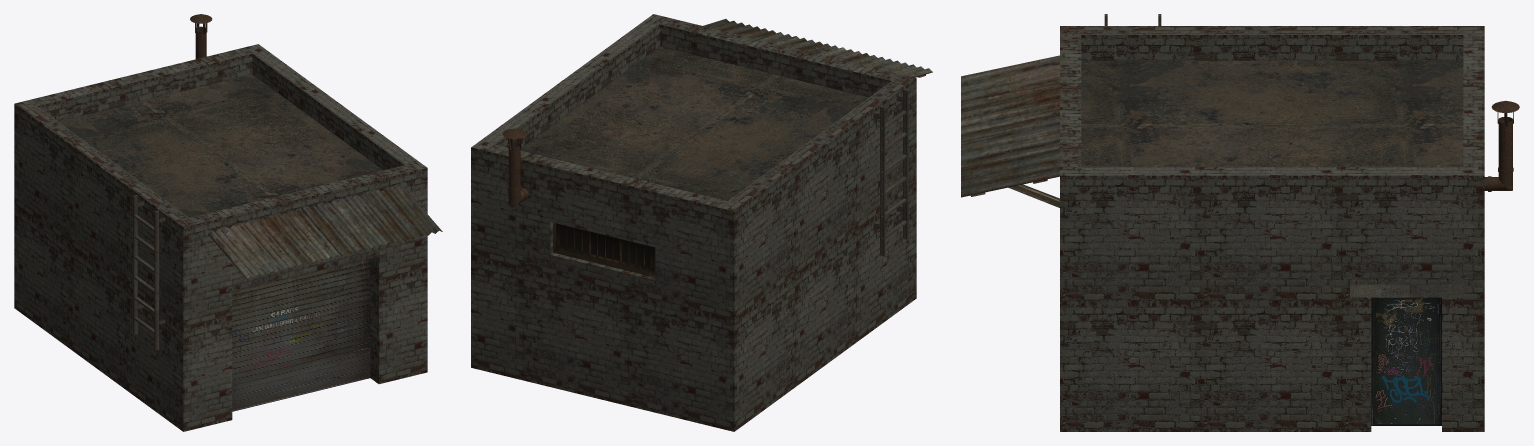
Rendered from garage_hl_2.fbx.
The picture shows the model from 3 angles, left to right: view 1: azimuth 30°, elevation 25°; view 2: azimuth 150°, elevation 25°; view 3: azimuth 270°, elevation 25°; orthographic projection. The views are drawn at different scales.
Parts seen in each view (by area): view 1: garage_hl_2; view 2: garage_hl_2; view 3: garage_hl_2.
Part boxes in pixels (left/top/right/bottom): garage_hl_2: left=14, top=14, right=442, bottom=431; garage_hl_2: left=471, top=14, right=932, bottom=431; garage_hl_2: left=961, top=14, right=1519, bottom=431.
Bounding box in the file's own units: 5.22 × 7.9 × 4.7.
